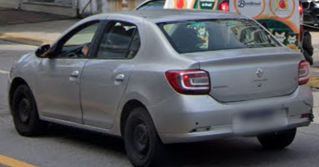car: (6, 8, 314, 167)
